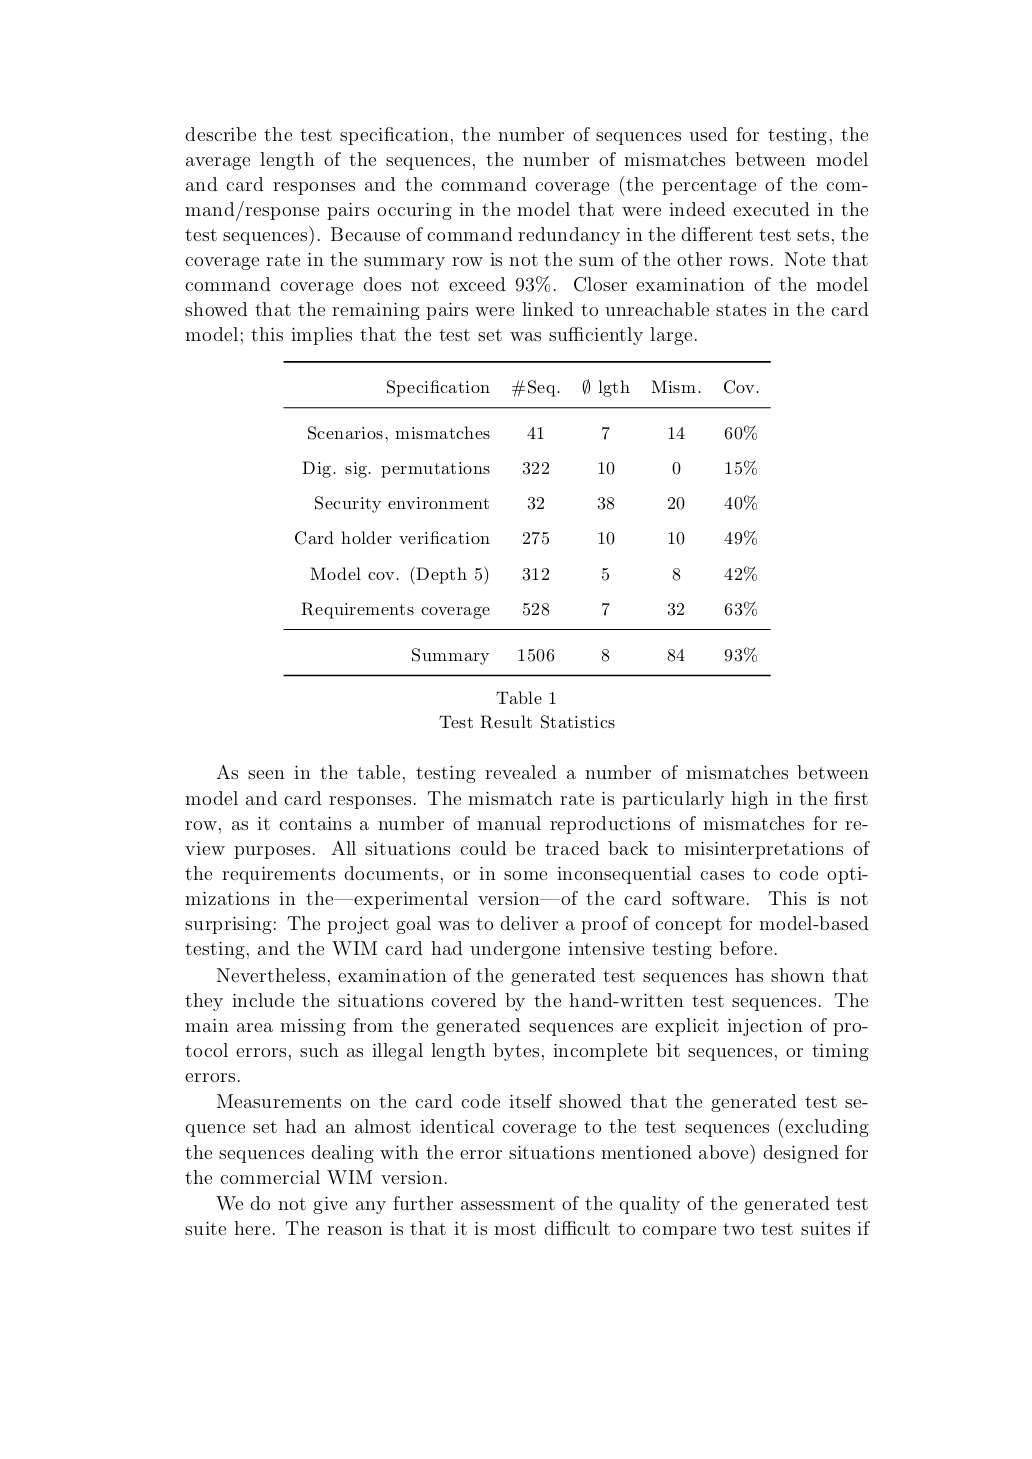Table: (283, 361, 770, 676)
